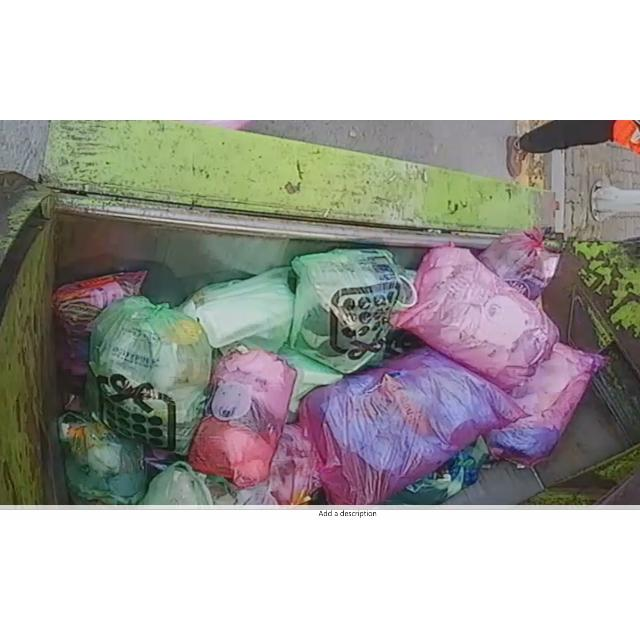general_trashbag: (179, 268, 342, 414), (89, 296, 212, 455), (290, 249, 416, 374), (59, 412, 146, 505), (139, 461, 212, 506)
other_trashbag: (300, 348, 524, 505), (391, 246, 559, 391), (189, 350, 296, 490), (488, 342, 604, 466), (52, 271, 147, 376), (385, 438, 489, 505), (478, 228, 560, 301), (269, 425, 321, 505)
